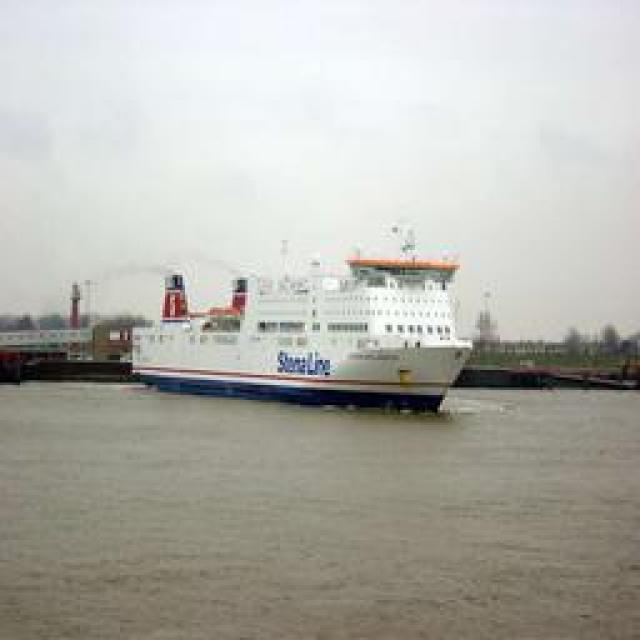ship2: (131, 225, 475, 415)
